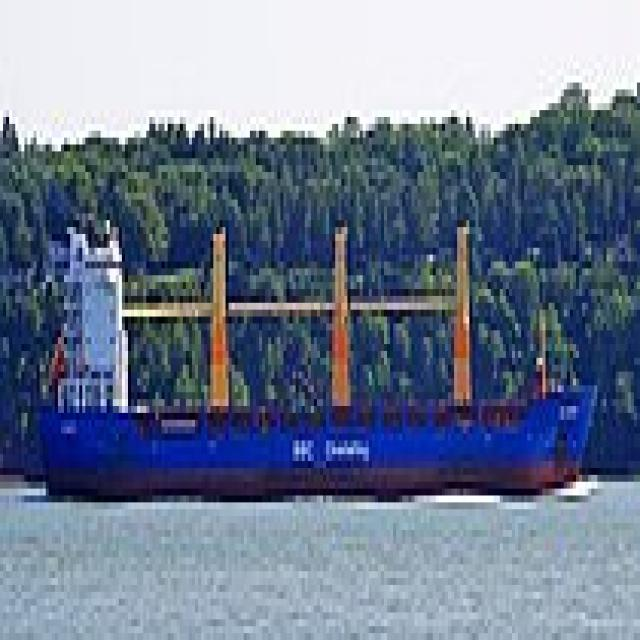Cargo: (34, 214, 598, 496)
